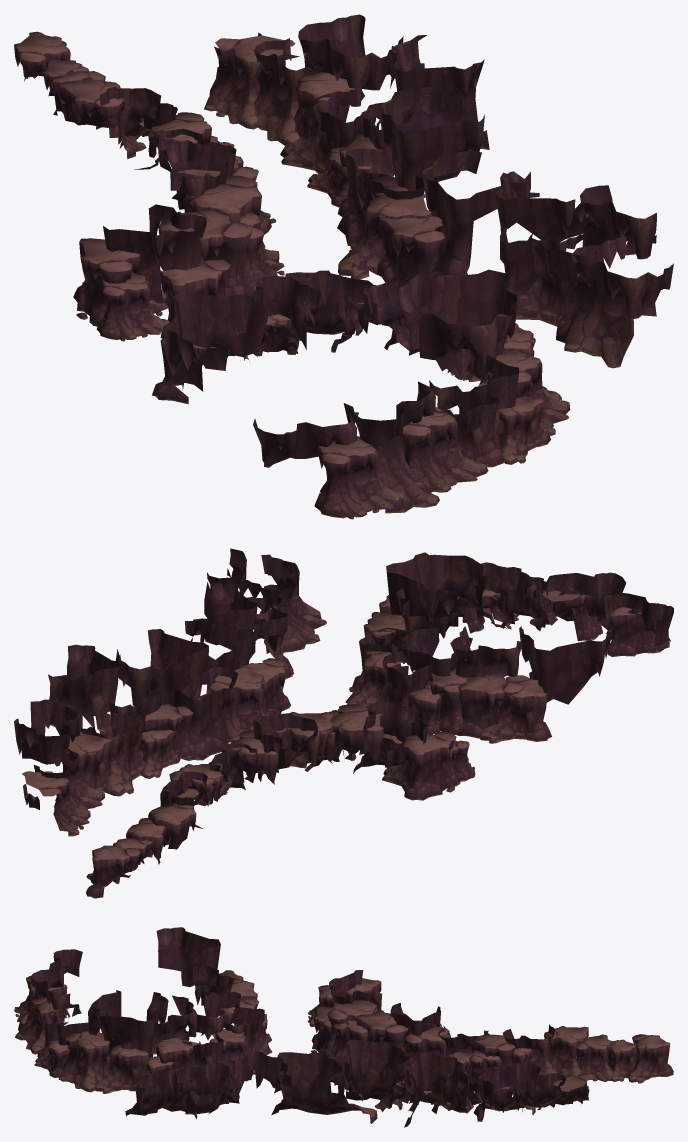
The model's file is area12_shiqiang_02.FBX.
3 renders of one model, top to bottom at view 1: azimuth 30°, elevation 25°; view 2: azimuth 150°, elevation 25°; view 3: azimuth 270°, elevation 25°, orthographic. The views are drawn at different scales.
Parts seen in each view (by area): view 1: area12_shiqiang_02; view 2: area12_shiqiang_02; view 3: area12_shiqiang_02.
Boxes of the visible parts, x1,y1,x2,y2 form: area12_shiqiang_02: [14, 14, 673, 519]; area12_shiqiang_02: [14, 548, 673, 898]; area12_shiqiang_02: [14, 927, 673, 1127].
Bounding box in the file's own units: 8235 × 2041 × 15018.
